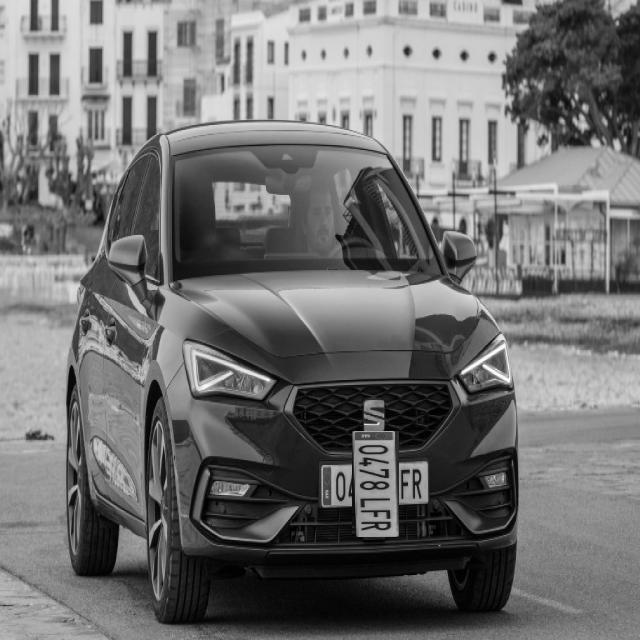License-Plate: (336, 445, 414, 523)
